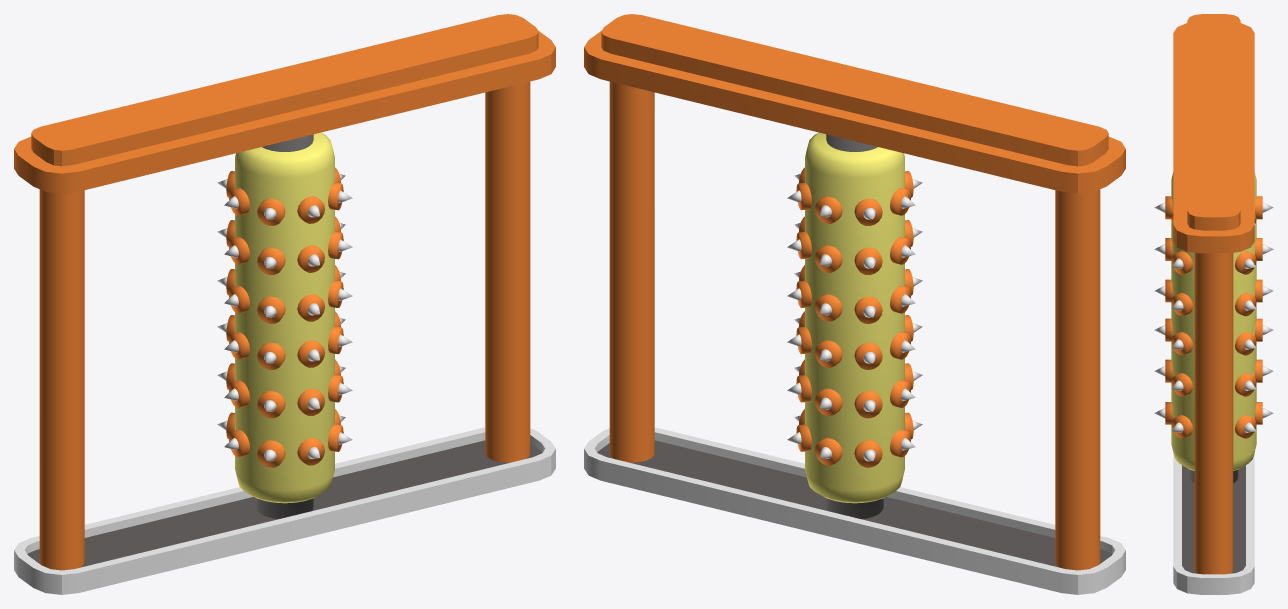
Rendered from Obstacle 21 V3.fbx.
3 views of the same model, side by side, from view 1: azimuth 30°, elevation 25°; view 2: azimuth 150°, elevation 25°; view 3: azimuth 270°, elevation 25° (orthographic). The views are drawn at different scales.
Visible parts, largest first — view 1: O21 Part 1, O21 Part 2; view 2: O21 Part 1, O21 Part 2; view 3: O21 Part 1, O21 Part 2.
Boxes of the visible parts, x1=… form: O21 Part 1: x1=14, y1=14, x2=555, y2=594; O21 Part 2: x1=217, y1=132, x2=352, y2=519; O21 Part 1: x1=584, y1=14, x2=1125, y2=594; O21 Part 2: x1=787, y1=132, x2=922, y2=519; O21 Part 1: x1=1173, y1=14, x2=1254, y2=594; O21 Part 2: x1=1154, y1=172, x2=1273, y2=482.
Bounding box in the file's own units: 282 × 231 × 66.38.
Materials: 1 (1 with a texture image).
